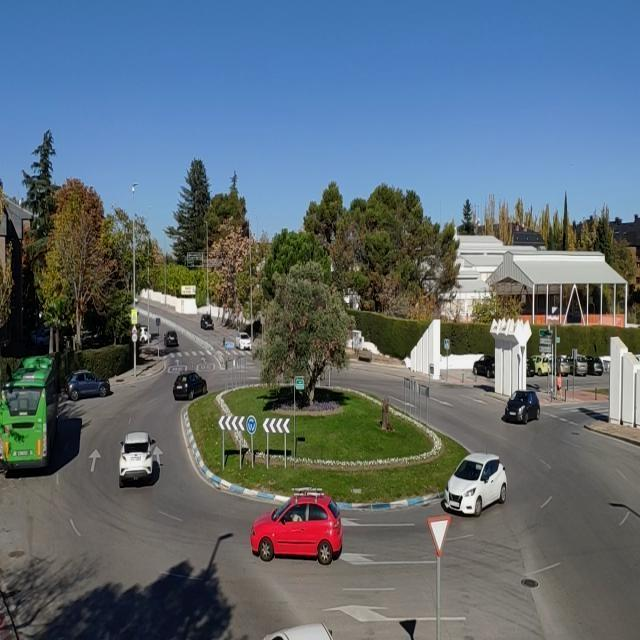Bus: (0, 354, 58, 471)
Car: (249, 489, 343, 564), (444, 453, 506, 516), (118, 432, 156, 488), (64, 370, 110, 401), (259, 621, 336, 639), (503, 389, 540, 424), (173, 372, 208, 401), (563, 354, 590, 376), (547, 355, 574, 376), (528, 354, 553, 376), (81, 331, 111, 348), (580, 355, 604, 376), (473, 356, 495, 378), (30, 327, 50, 347), (234, 332, 252, 350), (164, 330, 179, 348), (137, 325, 150, 344), (200, 314, 214, 330), (526, 357, 536, 377)
